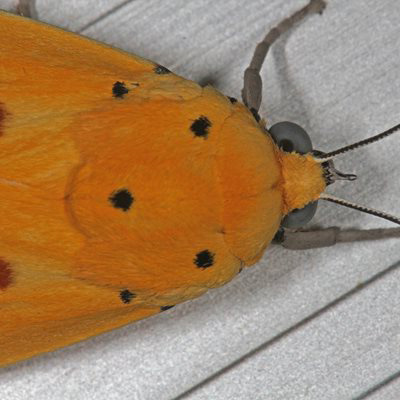Agape chloropyga: (1, 1, 400, 374)
moth: (1, 1, 399, 374)
